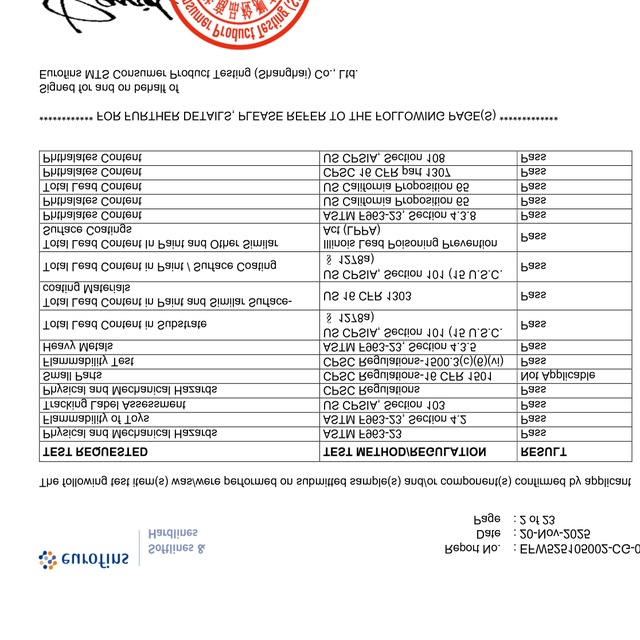eurofins: (35, 546, 132, 569)
